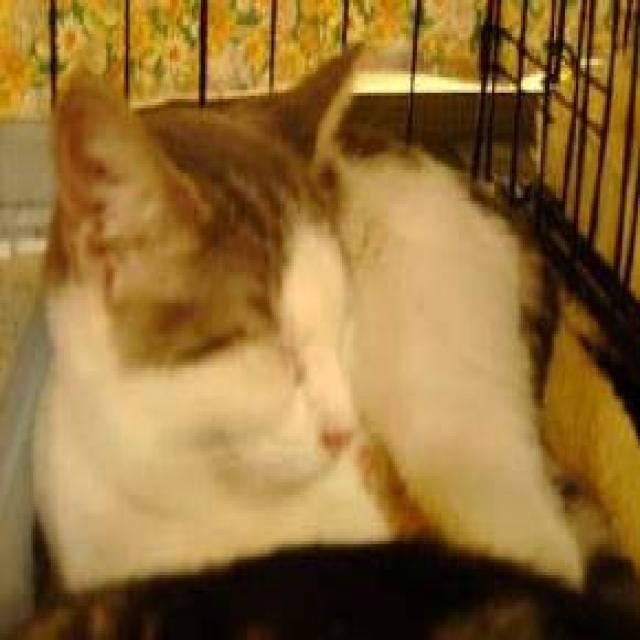Cat: (44, 37, 390, 522)
